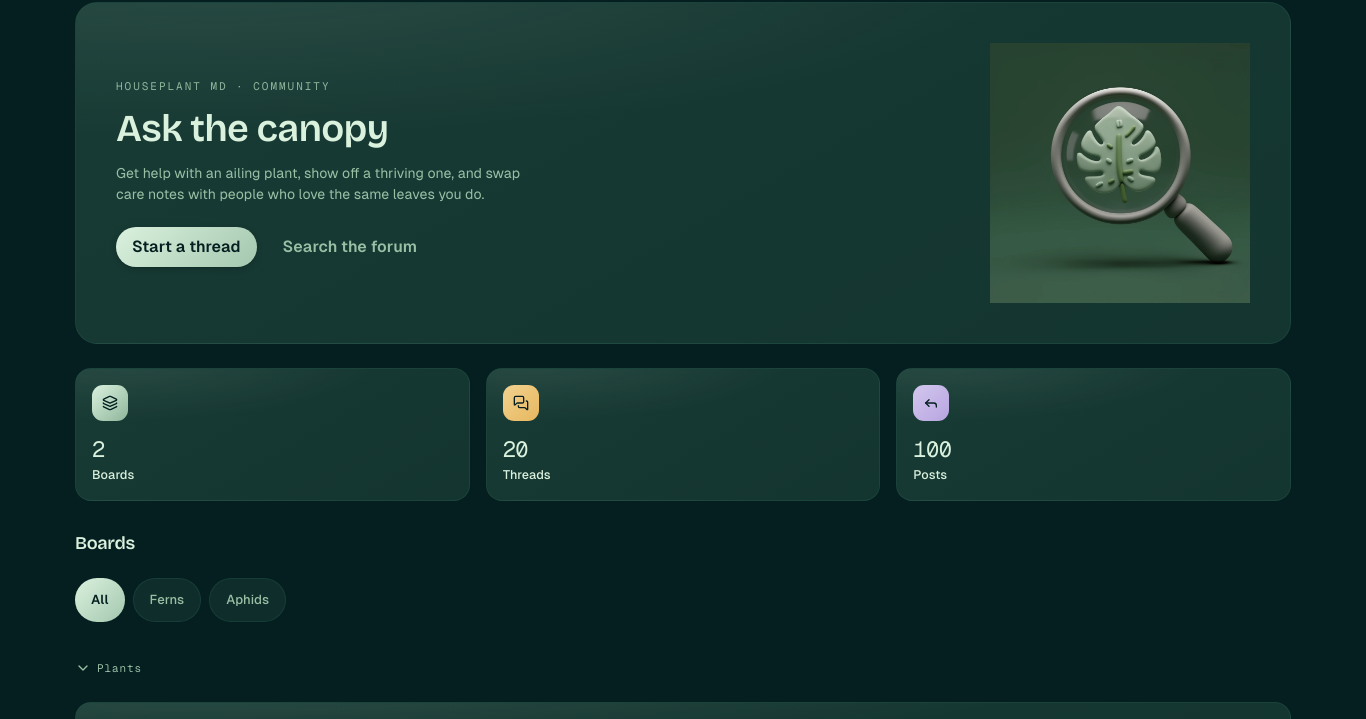
Test: CategoryListPage › collapsible categories (todo 673) › hides a category’s forums when its header is toggled and flips aria-expanded
What coordinates should you click on to do the following:
click the button "Plants"
I would click on:
 (108, 668)
Its box is [75,646,142,690].
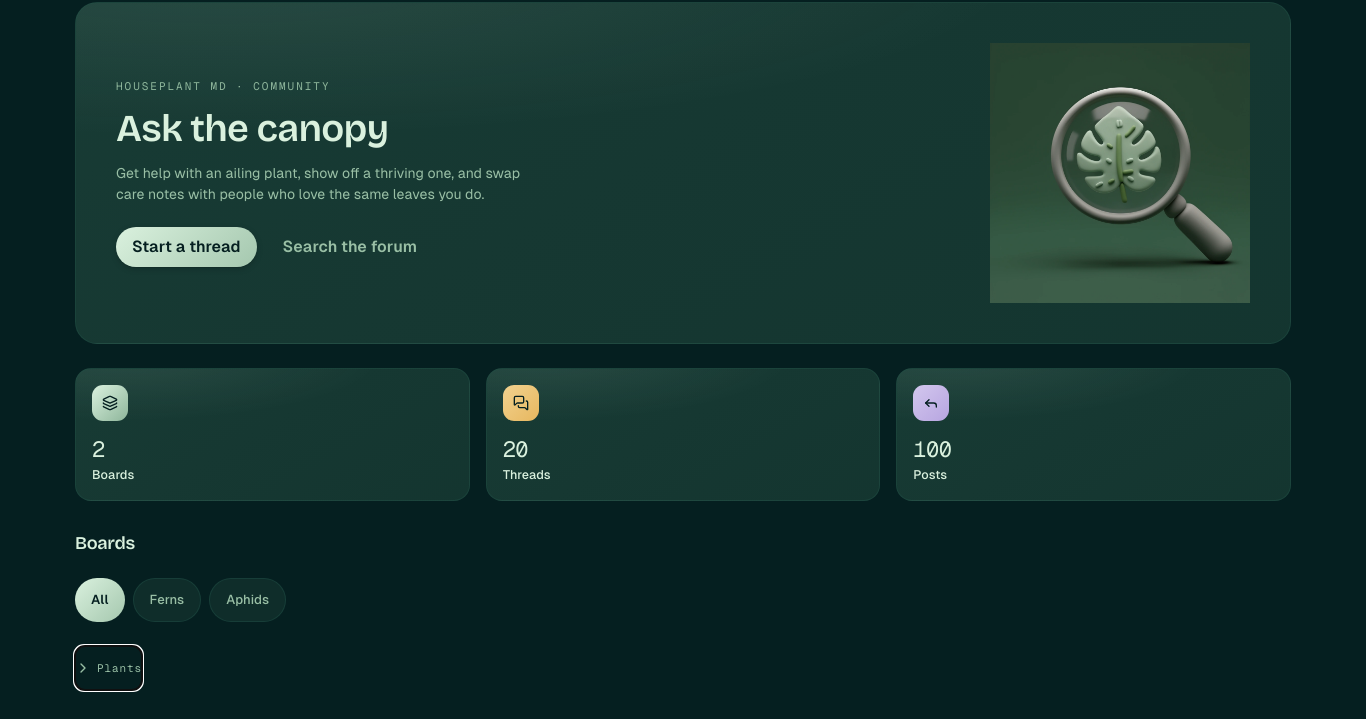
Check: the button "Plants" is collapsed
What coordinates should you click on to do the following:
click the button "Plants"
I would click on:
 (108, 668)
Its box is [75,646,142,690].
(page scrolled)
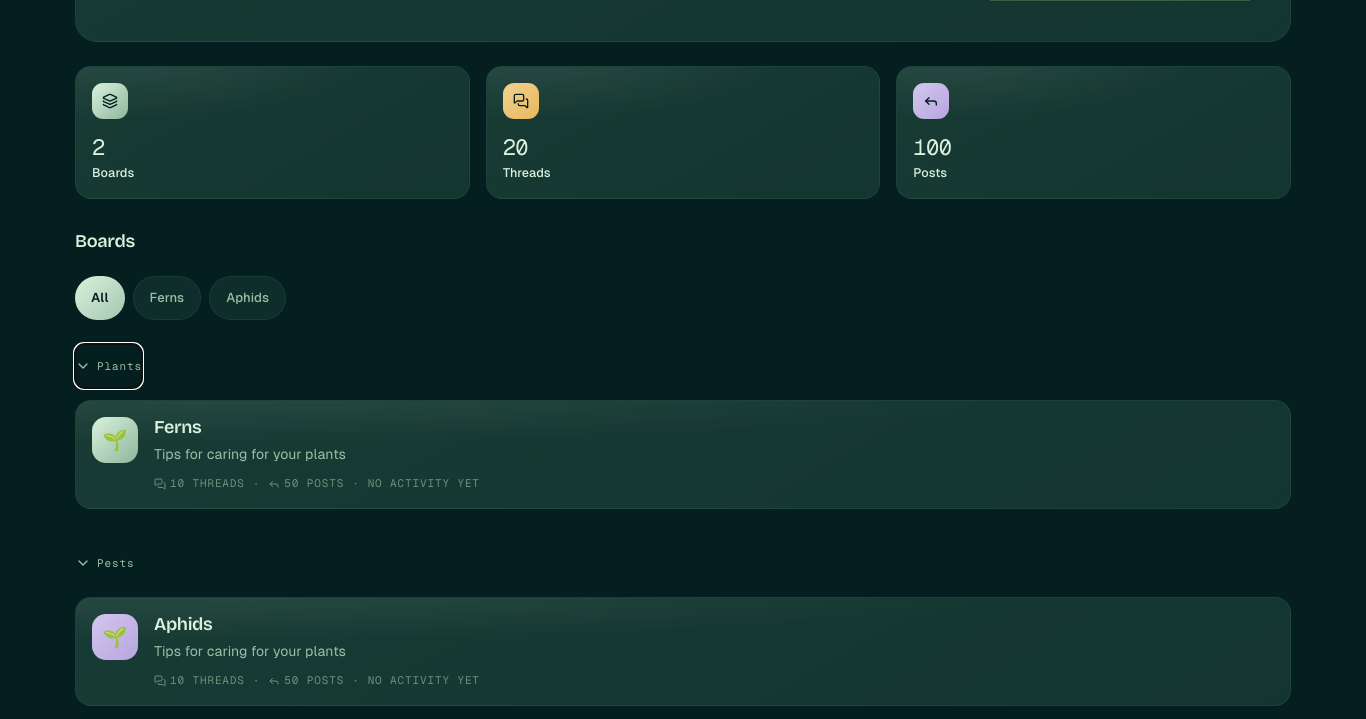
Check: the button "Plants" is expanded, box [75,344,142,388]
Check: the heading "Ferns" is shown, box [154,416,201,438]
